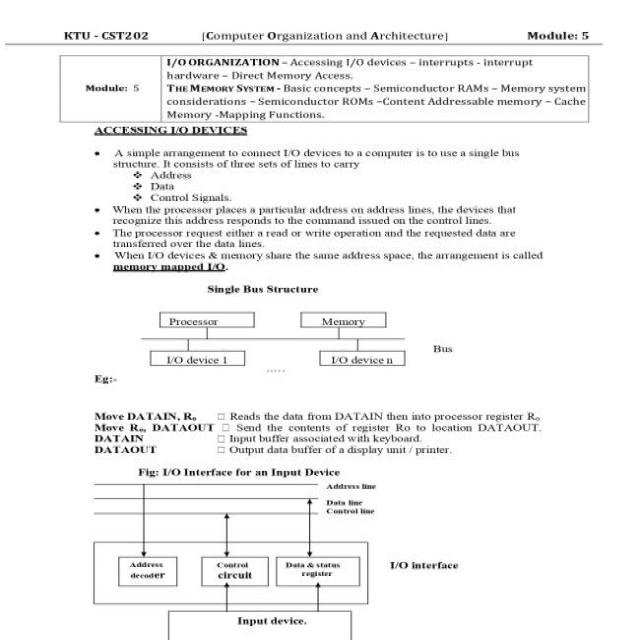Figure Detection - v3 Dataset Version2: (78, 462, 466, 640), (138, 278, 474, 384)
